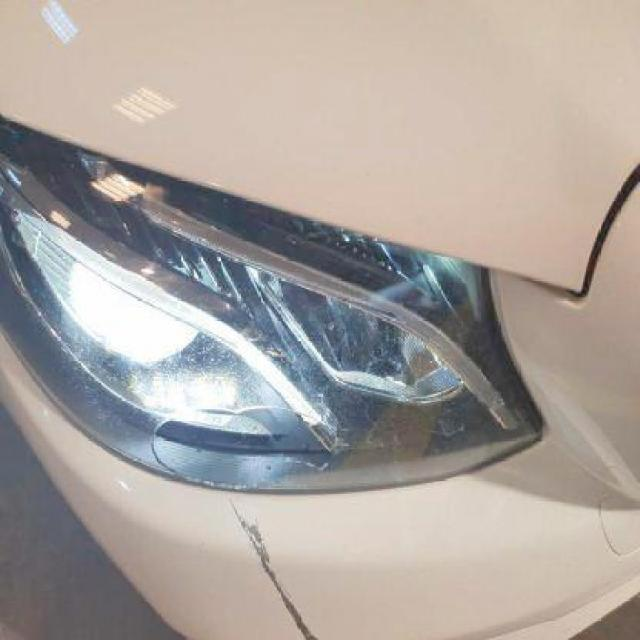car damage: (476, 367, 640, 527), (226, 496, 328, 640)
